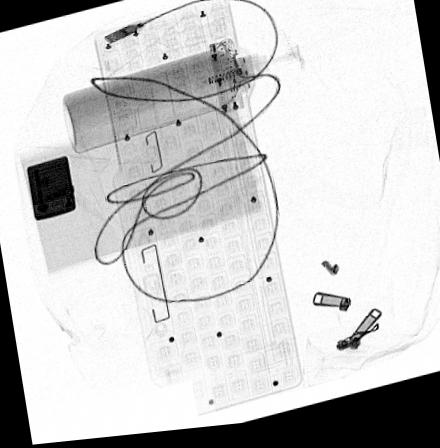Lighter: (26, 157, 76, 222)
